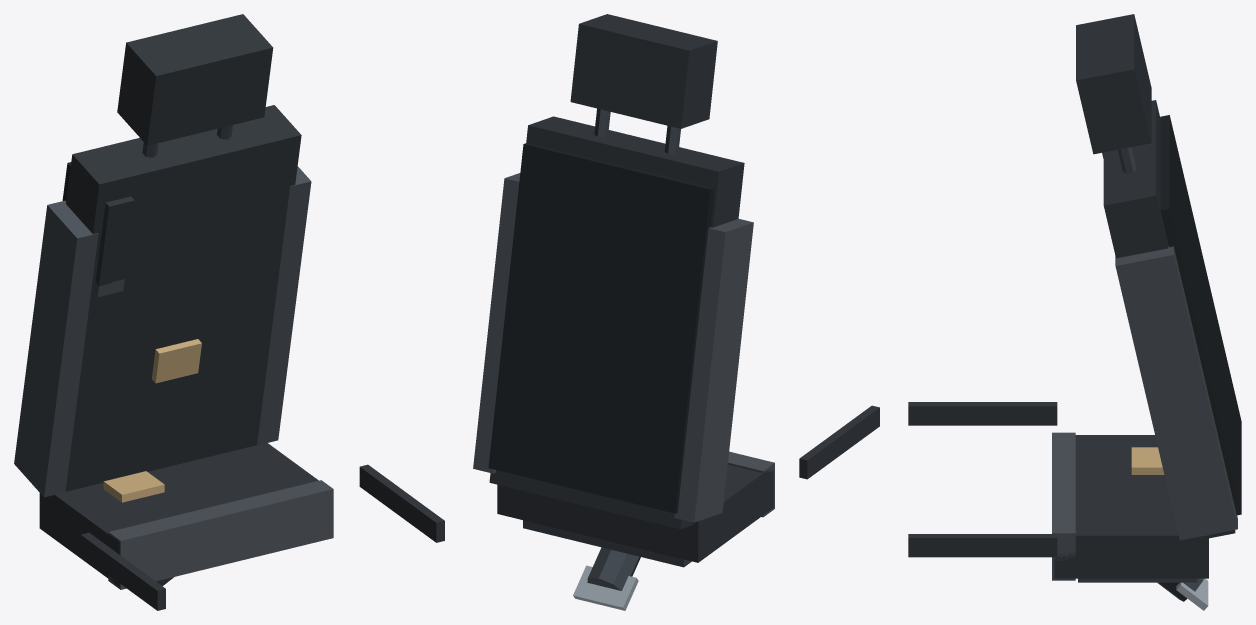
Rendered from inf_driver_part_seat.fbx.
3 renders of one model, left to right at view 1: azimuth 30°, elevation 25°; view 2: azimuth 150°, elevation 25°; view 3: azimuth 270°, elevation 25°, orthographic. The views are drawn at different scales.
Parts seen in each view (by area): view 1: inf_driver_part_seat; view 2: inf_driver_part_seat; view 3: inf_driver_part_seat.
Part boxes in pixels (x1,y1,x2,y2): inf_driver_part_seat: (14, 14, 444, 610); inf_driver_part_seat: (473, 14, 879, 610); inf_driver_part_seat: (908, 14, 1241, 610).
Size of the model in its own units: 270 by 517 by 280.
